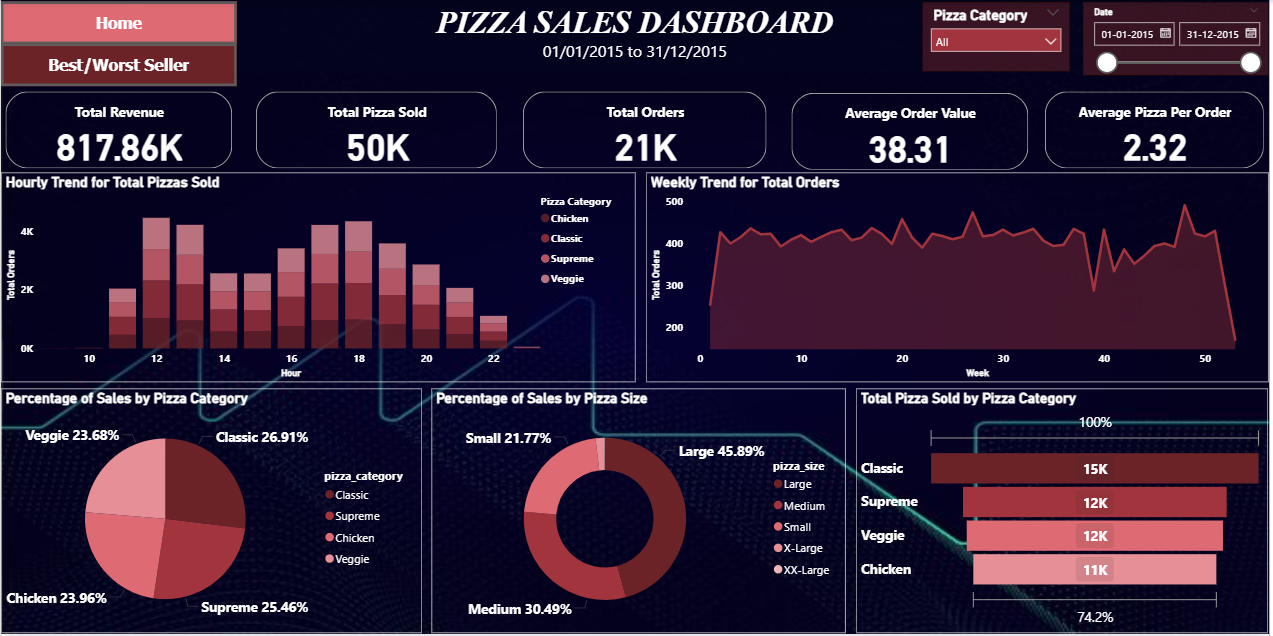

The page's visual inventory and layout, read from the dashboard file:
{"tool":"powerbi","page":{"name":"Home","canvas":[1500,750],"ordinal":0},"visuals":[{"type":"textbox","box":[0,0,1499.5,86.2],"z":0},{"type":"cardVisual","fields":{"Data":["Table_1.Total Revenue"]},"box":[0,102.9,278.3,101.2],"z":1000},{"type":"actionButton","box":[0,1.7,278.9,50.4],"z":2000},{"type":"actionButton","title":"Best /Worst Seller","box":[0,52.1,278.9,50.4],"z":3000},{"type":"cardVisual","fields":{"Data":["Table_1.Total Pizza Sold"]},"box":[296.6,102.9,295.1,101.4],"z":4000},{"type":"cardVisual","fields":{"Data":["Table_1.Total Orders"]},"box":[612.8,102.9,298.1,101.4],"z":5000},{"type":"cardVisual","fields":{"Data":["Table_1.Average Pizza Per Order"]},"box":[1230.2,102.9,269.3,101.4],"z":6000},{"type":"cardVisual","fields":{"Data":["Table_1.Average Order Value"]},"box":[929.1,104.4,290.5,101.4],"z":7000},{"type":"columnChart","title":"Hourly Trend for Total Pizzas Sold","fields":{"Category":["Table_1.Hour"],"Y":["Table_1.Total Orders"],"Series":["Table_1.pizza_category"]},"box":[0,204.3,750.5,248.2],"z":8000},{"type":"lineChart","title":"Weekly Trend for Total Orders","fields":{"Category":["Table_1.Week"],"Y":["Table_1.Total Orders"]},"box":[762.6,204.3,736.9,248.2],"z":9000},{"type":"pieChart","title":"Percentage of Sales by Pizza Category","fields":{"Category":["Table_1.pizza_category"],"Y":["Table_1.% Sales by Category"]},"box":[0,460,497.8,289],"z":10000},{"type":"donutChart","title":"Percentage of Sales by Pizza Size","fields":{"Category":["Table_1.pizza_size"],"Y":["Table_1.% Sales by Category"]},"box":[508.4,460,490.3,289],"z":11000},{"type":"funnel","title":"Total Pizza Sold by Pizza Category","fields":{"Category":["Table_1.pizza_category"],"Y":["Table_1.Total Pizza Sold"]},"box":[1012.3,460,487.2,289],"z":12000},{"type":"slicer","fields":{"Values":["Table_1.pizza_category"]},"box":[1089.4,1.5,175.5,83.2],"z":13000},{"type":"slicer","fields":{"Values":["Table_1.order_date"]},"box":[1278.6,1.5,220.9,87.8],"z":14000}]}

Visuals, with their boxes in screenshot pixels (x1, y1, x2, y2), scaled from the page's 1500x750 canvas onto the 1273x636 screenshot:
textbox: [0,0,1272,73]
cardVisual - Table_1.Total Revenue: [0,87,236,173]
actionButton: [0,1,237,44]
"Best /Worst Seller" actionButton: [0,44,237,87]
cardVisual - Table_1.Total Pizza Sold: [252,87,502,173]
cardVisual - Table_1.Total Orders: [520,87,773,173]
cardVisual - Table_1.Average Pizza Per Order: [1044,87,1272,173]
cardVisual - Table_1.Average Order Value: [788,89,1035,175]
"Hourly Trend for Total Pizzas Sold" columnChart: [0,173,637,384]
"Weekly Trend for Total Orders" lineChart: [647,173,1272,384]
"Percentage of Sales by Pizza Category" pieChart: [0,390,422,635]
"Percentage of Sales by Pizza Size" donutChart: [431,390,848,635]
"Total Pizza Sold by Pizza Category" funnel: [859,390,1272,635]
slicer - Table_1.pizza_category: [925,1,1073,72]
slicer - Table_1.order_date: [1085,1,1272,76]
